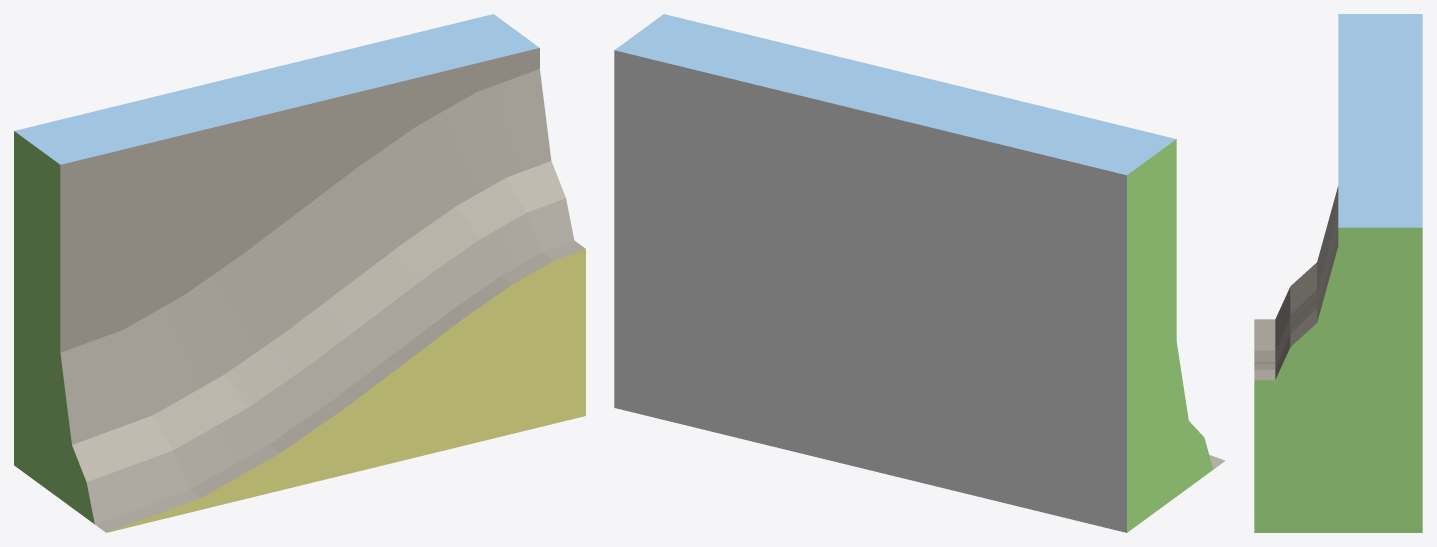
The model's file is Wall_Incline_2x6_Base.glb.
3 renders of one model, left to right at view 1: azimuth 30°, elevation 25°; view 2: azimuth 150°, elevation 25°; view 3: azimuth 270°, elevation 25°, orthographic. The views are drawn at different scales.
Parts seen in each view (by area): view 1: Wall_Incline_2x6_Base; view 2: Wall_Incline_2x6_Base; view 3: Wall_Incline_2x6_Base.
Part boxes in pixels (x1,y1,x2,y2): Wall_Incline_2x6_Base: (14,14,585,532); Wall_Incline_2x6_Base: (614,14,1225,532); Wall_Incline_2x6_Base: (1254,14,1422,532).
Size of the model in its own units: 600 by 400 by 200.
